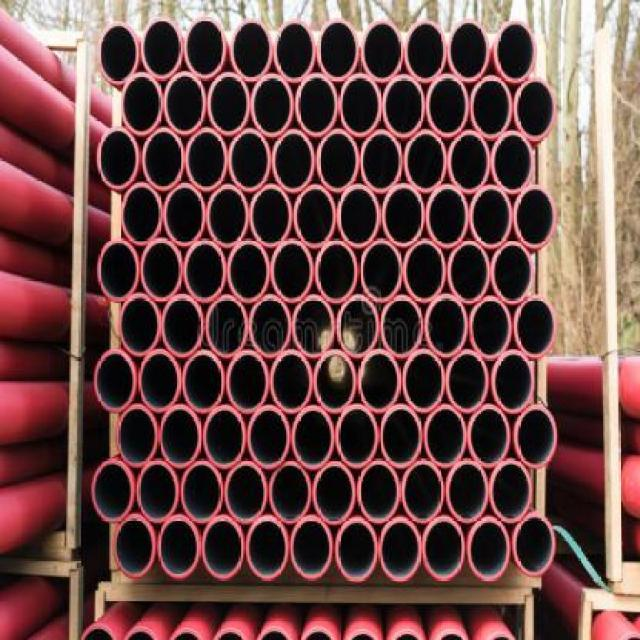pipe: (163, 71, 208, 136), (469, 296, 513, 360), (93, 459, 136, 524), (336, 517, 379, 582), (337, 185, 381, 248), (491, 349, 535, 412), (512, 514, 556, 577), (141, 128, 184, 192), (185, 128, 228, 192), (163, 183, 206, 247), (382, 183, 425, 247), (514, 183, 557, 247), (403, 239, 446, 303), (183, 239, 226, 303), (425, 294, 468, 358), (337, 294, 380, 358), (402, 348, 445, 412), (293, 405, 336, 469), (160, 406, 203, 470), (422, 516, 465, 580), (378, 517, 420, 582), (317, 129, 360, 192), (405, 130, 448, 193), (273, 129, 316, 192), (491, 131, 534, 194), (294, 185, 337, 248), (206, 185, 249, 248), (426, 185, 469, 248), (249, 186, 292, 249), (315, 240, 358, 303), (491, 241, 534, 304), (314, 350, 357, 413), (182, 351, 225, 414), (271, 351, 314, 414), (380, 405, 423, 468), (335, 405, 378, 468), (425, 405, 468, 468), (185, 17, 228, 80), (402, 460, 445, 523), (231, 19, 274, 82), (291, 516, 334, 579), (202, 517, 245, 580), (140, 239, 182, 303), (358, 349, 400, 413), (138, 349, 180, 413), (226, 349, 268, 413), (405, 20, 447, 84), (98, 22, 140, 86), (468, 517, 510, 581), (208, 72, 250, 136), (97, 126, 140, 188), (228, 240, 271, 302), (271, 240, 314, 302), (448, 240, 491, 302), (293, 294, 336, 356), (203, 406, 246, 468), (489, 460, 532, 522), (251, 74, 294, 136), (381, 74, 424, 136), (448, 129, 490, 192), (360, 240, 402, 303), (118, 294, 160, 357), (380, 295, 422, 358), (469, 405, 511, 468), (248, 405, 290, 468), (140, 16, 182, 79), (446, 460, 488, 523), (314, 462, 356, 525), (112, 515, 154, 578), (246, 517, 288, 580), (120, 73, 162, 136), (426, 75, 468, 138), (95, 348, 136, 412), (159, 516, 200, 580), (340, 72, 381, 136), (360, 131, 403, 192), (116, 406, 159, 467), (269, 463, 312, 524), (225, 463, 268, 524), (206, 294, 248, 356), (514, 406, 556, 468), (229, 129, 270, 192), (471, 185, 512, 248), (162, 296, 203, 359), (515, 296, 556, 359), (297, 74, 338, 137), (471, 76, 512, 139), (120, 183, 162, 244), (446, 351, 488, 412), (180, 462, 222, 523), (97, 240, 138, 302), (249, 295, 290, 357), (317, 18, 358, 80), (357, 462, 398, 524), (137, 460, 178, 522), (274, 20, 315, 82), (496, 22, 537, 84), (514, 79, 556, 139), (362, 20, 403, 81), (449, 20, 489, 82)
